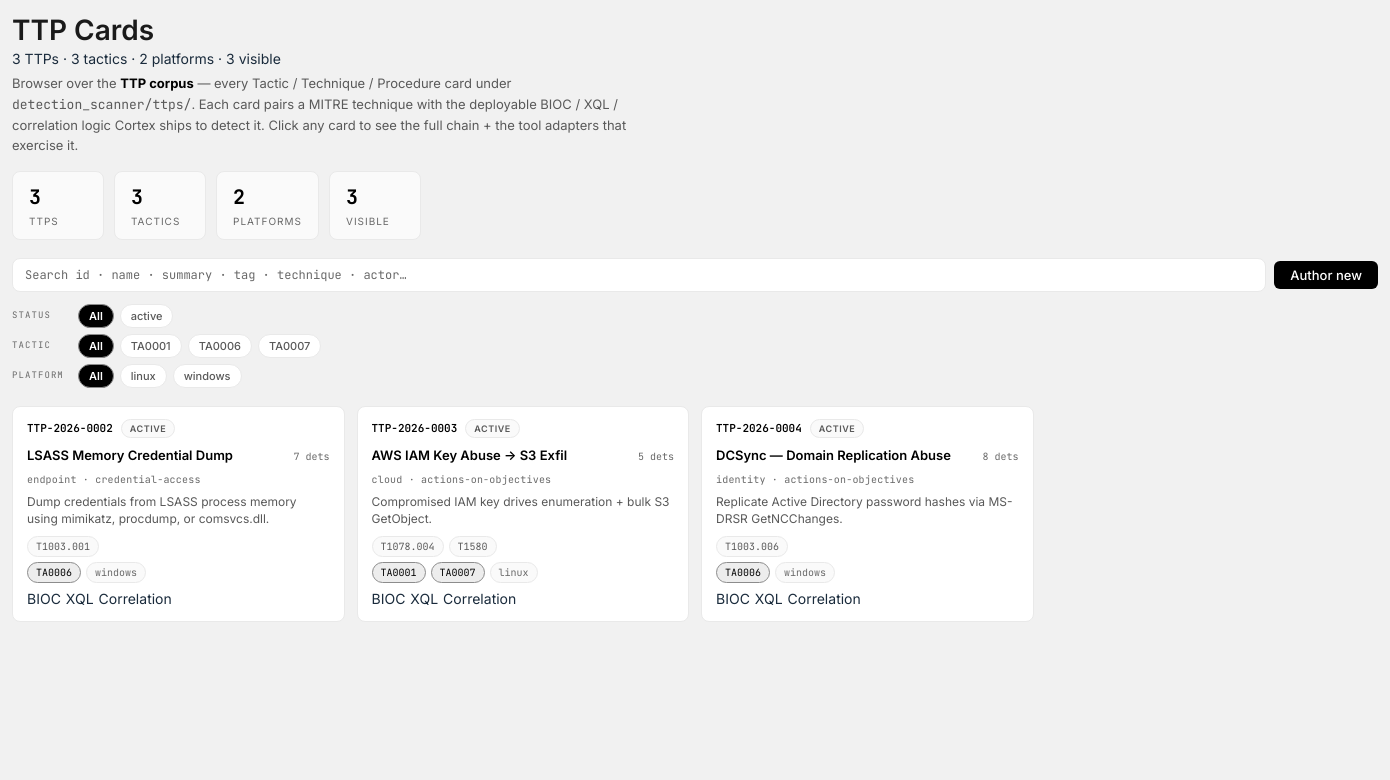
Test: <TtpBrowserView /> › Clear button resets search + chip filters
Expected: the button with test id "ttp-card-TTP-2026-0002" is shown, 12,406 -> 344,622
Type "dcsync" into the search field with test id "ttp-search" at (639, 275), box 12,258 -> 1266,292
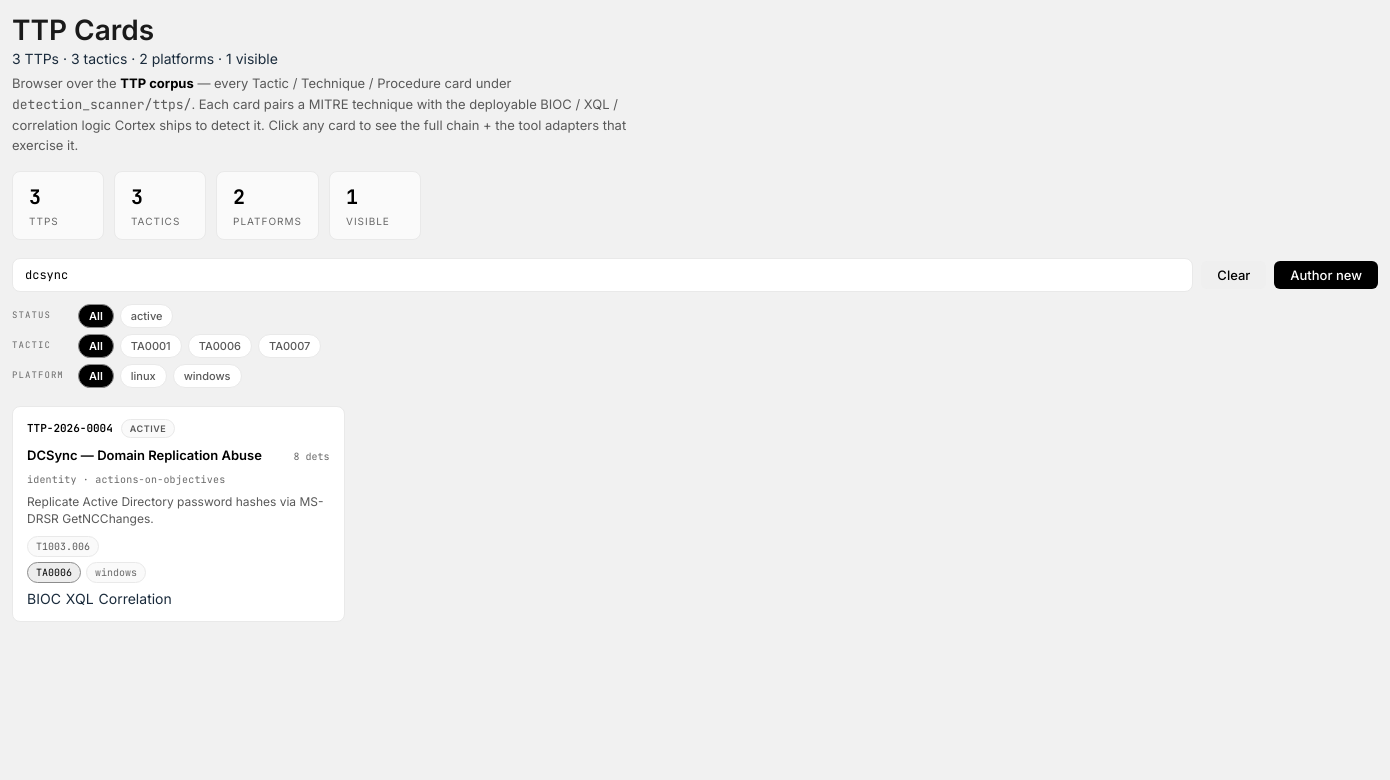
Result: the button with test id "ttp-card-TTP-2026-0002" is gone
Click the button with test id "ttp-clear-filters" at (1234, 275), box 1201,261 -> 1266,289
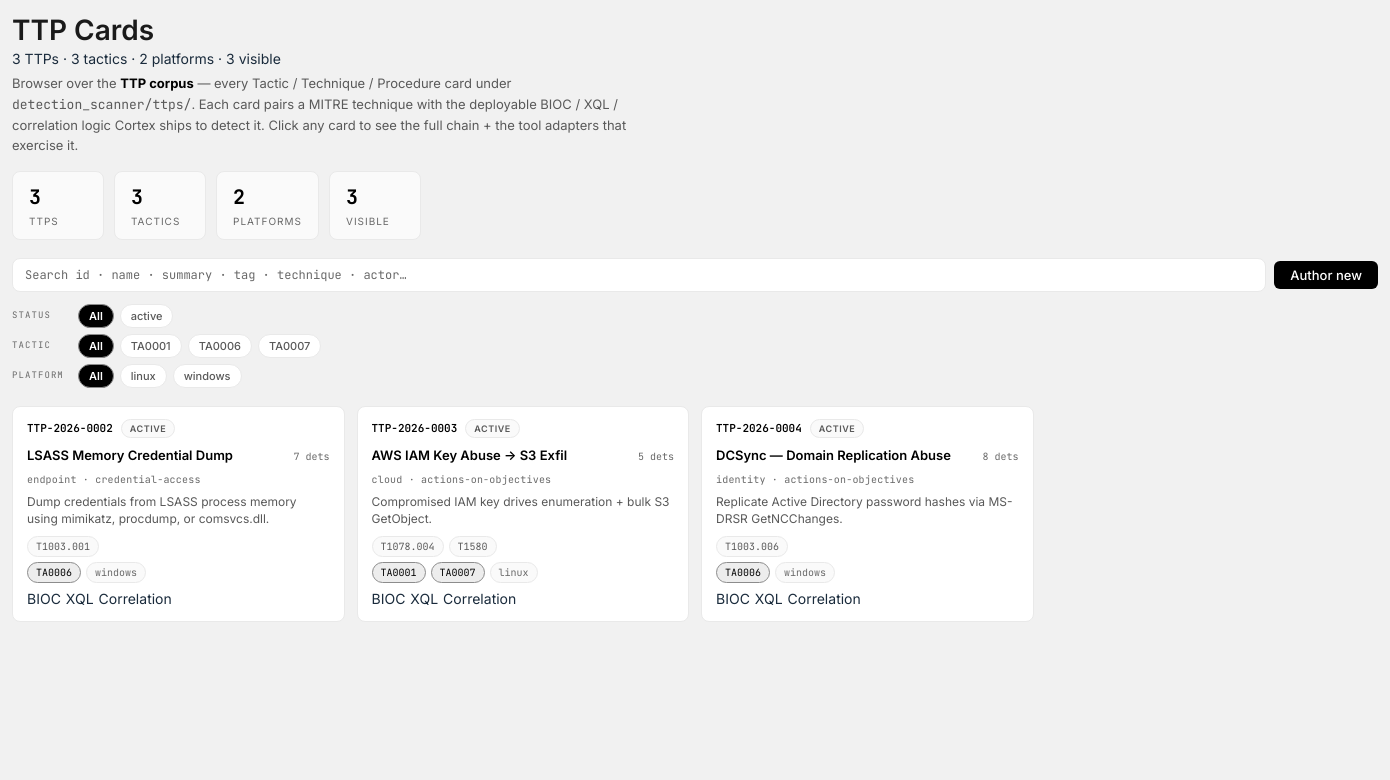
Expected: the button with test id "ttp-card-TTP-2026-0004" is shown, 701,406 -> 1034,622
Result: the button with test id "ttp-card-TTP-2026-0002" is shown at 12,406 -> 344,622
Result: the button with test id "ttp-card-TTP-2026-0003" is shown at 356,406 -> 689,622
